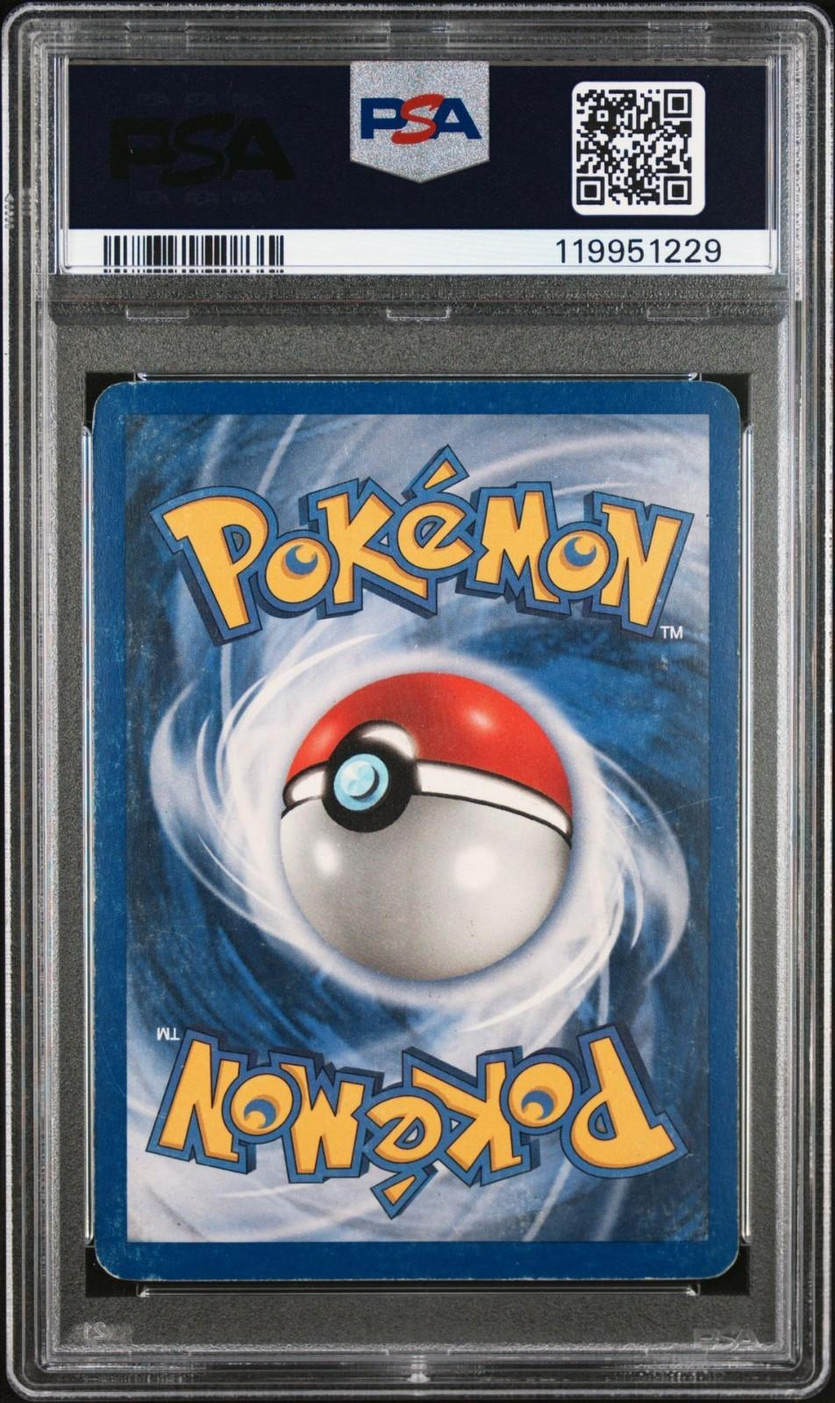card-2UtV: (91, 380, 741, 1282)
